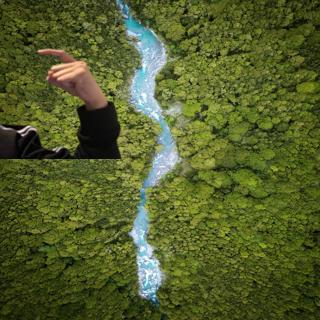WHY: (32, 42, 105, 108)
